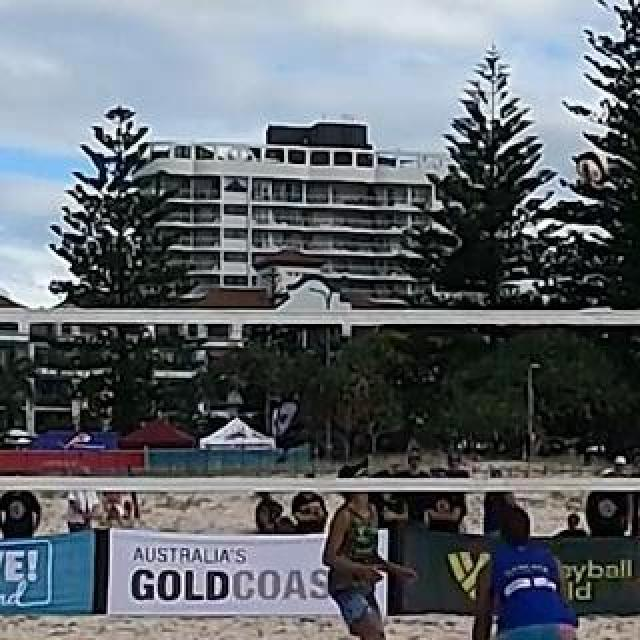volleyball: (577, 150, 609, 182)
